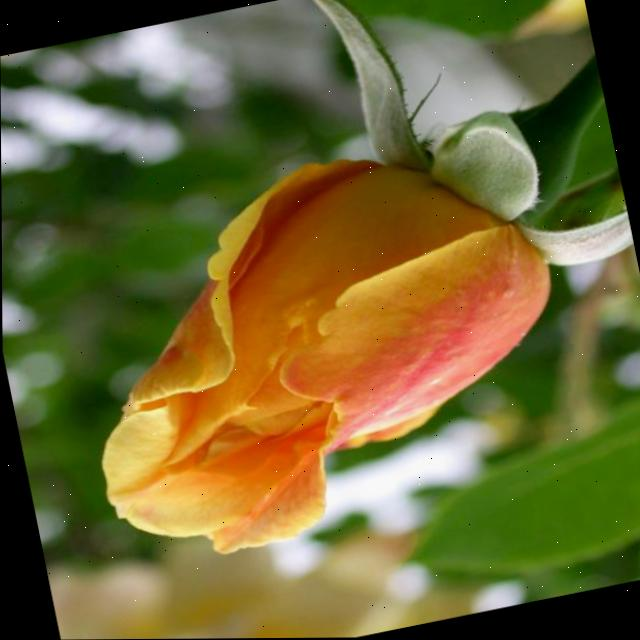rose: (26, 100, 630, 584)
